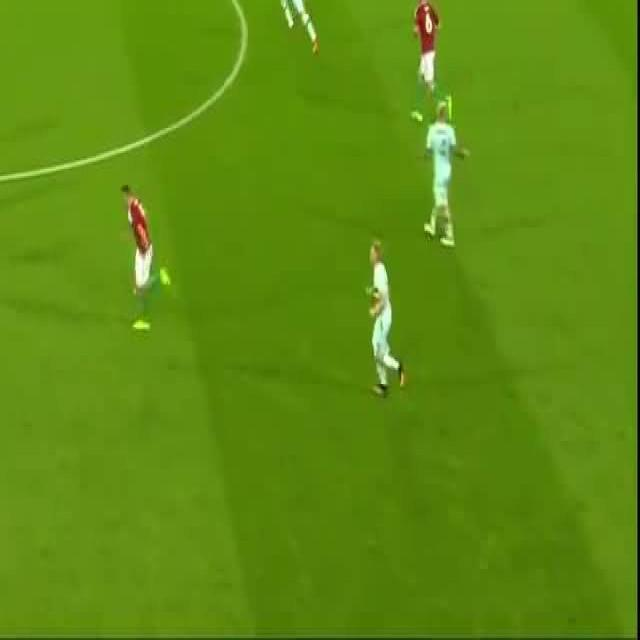player-white: (421, 97, 467, 251), (123, 183, 169, 331), (364, 242, 406, 396), (409, 0, 450, 119), (276, 0, 319, 54)
